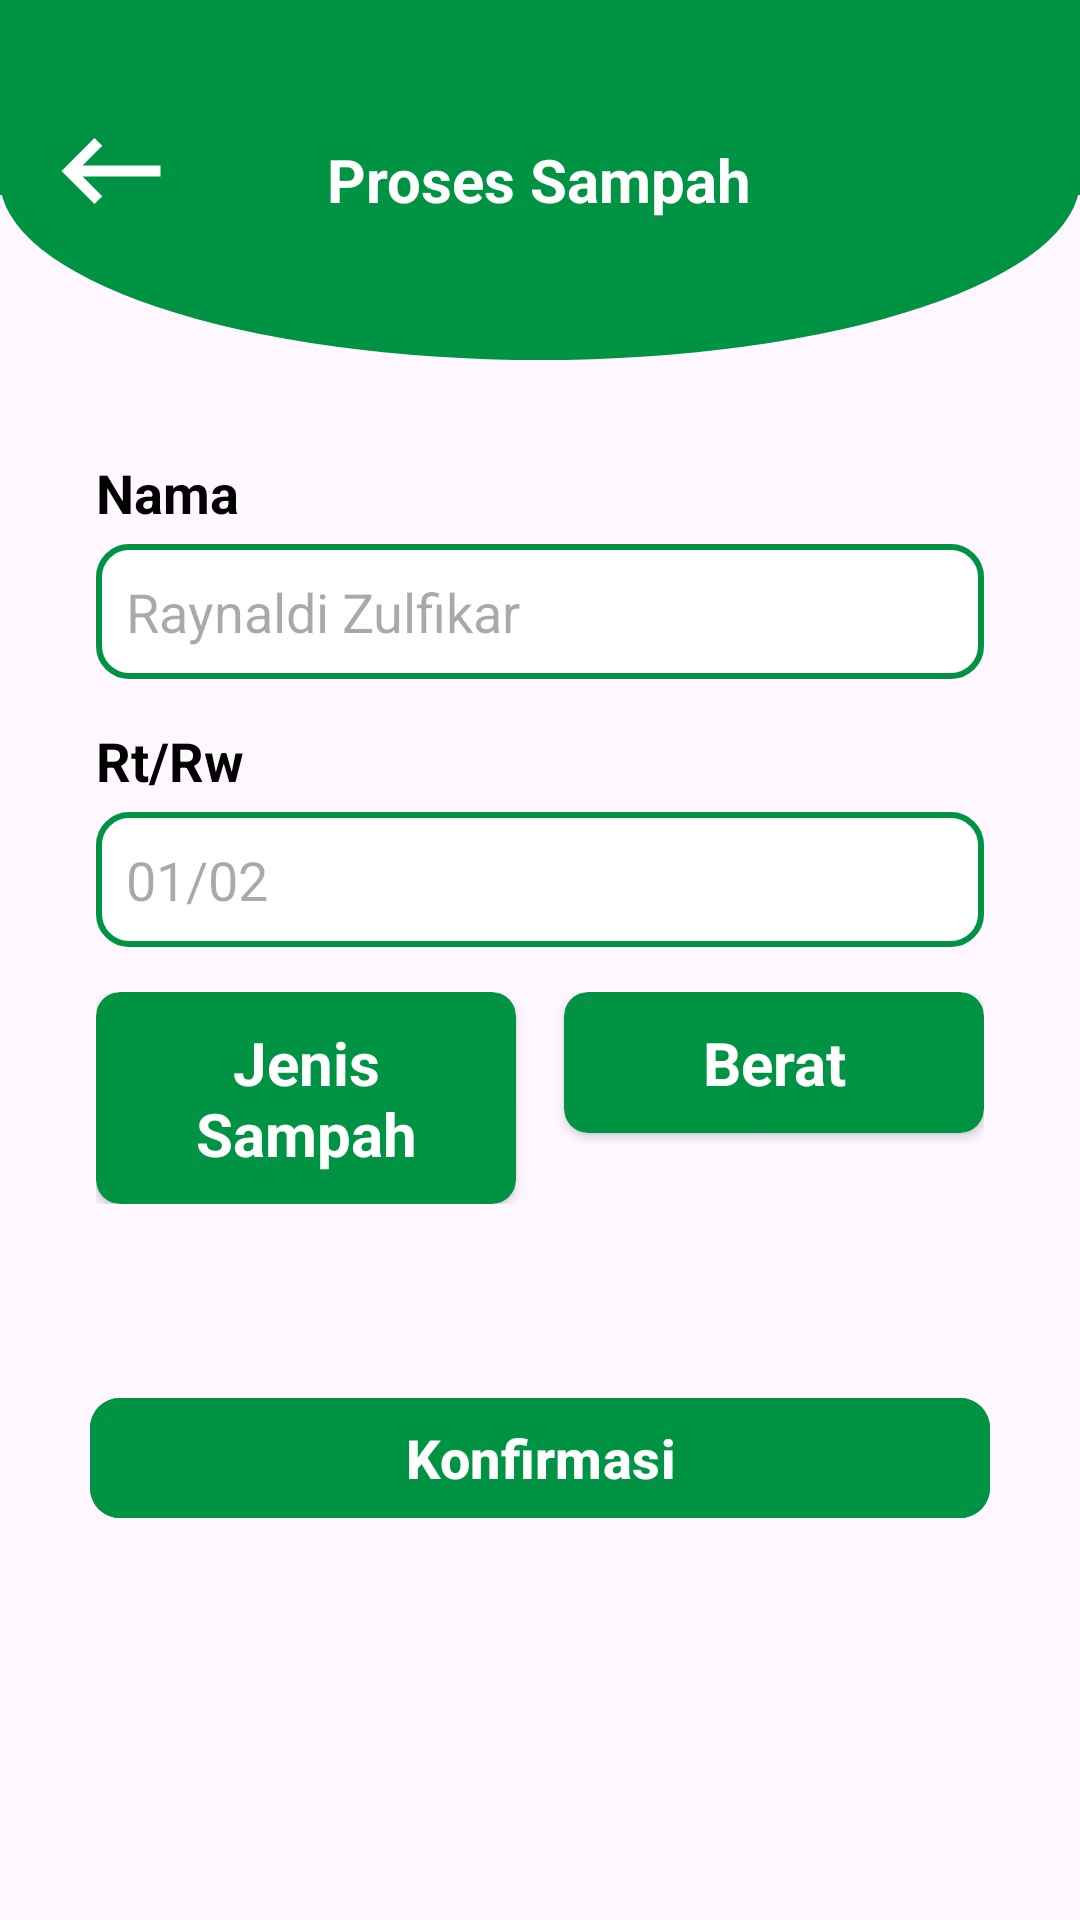

Screen size 1080 × 1920. Icon name, then its center in pixels as [x,y]:
keyboard backspace: [111,171]
